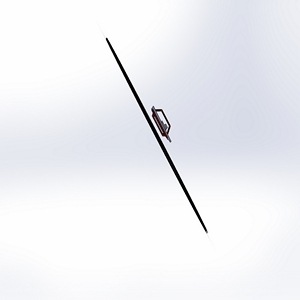circle: (91, 29, 222, 241)
submarine: (145, 98, 176, 149)
